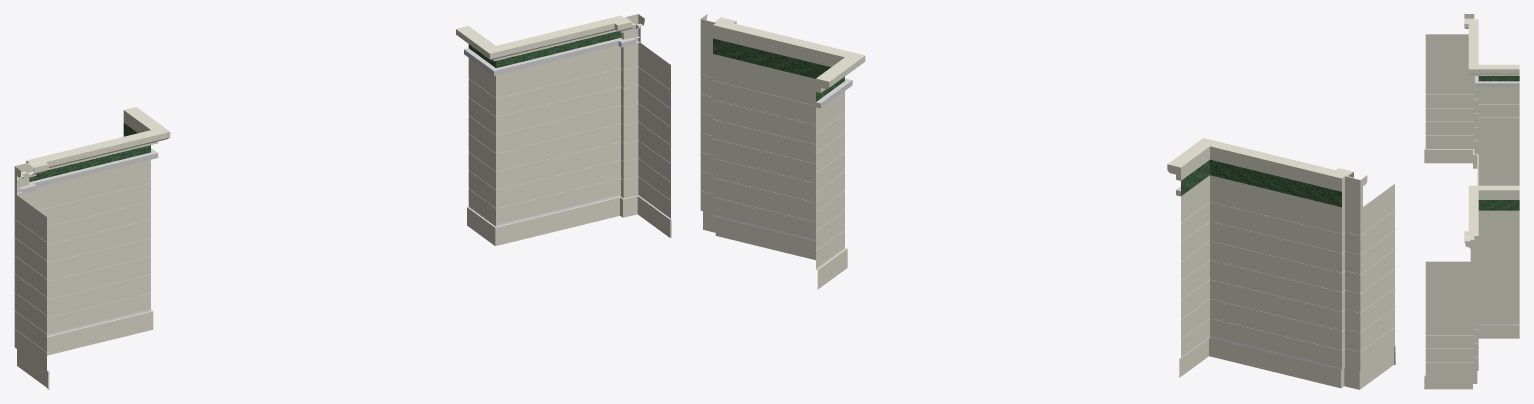
Rendered from gate_floor1.glb.
The picture shows the model from 3 angles, left to right: view 1: azimuth 30°, elevation 25°; view 2: azimuth 150°, elevation 25°; view 3: azimuth 270°, elevation 25°; orthographic projection. The views are drawn at different scales.
Parts seen in each view (by area): view 1: _C-Component#4 (Loose Mesh).002; view 2: _C-Component#4 (Loose Mesh).002; view 3: _C-Component#4 (Loose Mesh).002.
Boxes of the visible parts, x1,y1,x2,y2 form: _C-Component#4 (Loose Mesh).002: (14, 14, 671, 389); _C-Component#4 (Loose Mesh).002: (700, 14, 1395, 389); _C-Component#4 (Loose Mesh).002: (1424, 14, 1519, 389).
Size of the model in its own units: 10.2 by 3.11 by 1.8.
8 materials, 2 textured.
